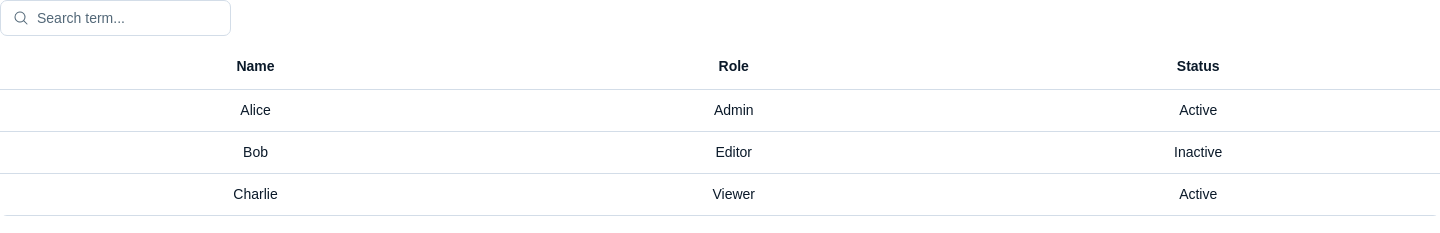
Scenario: Table › dismisses a custom editor on Escape
Step 1. Click the button "Alice" → (256, 110), box [12,98,499,123]
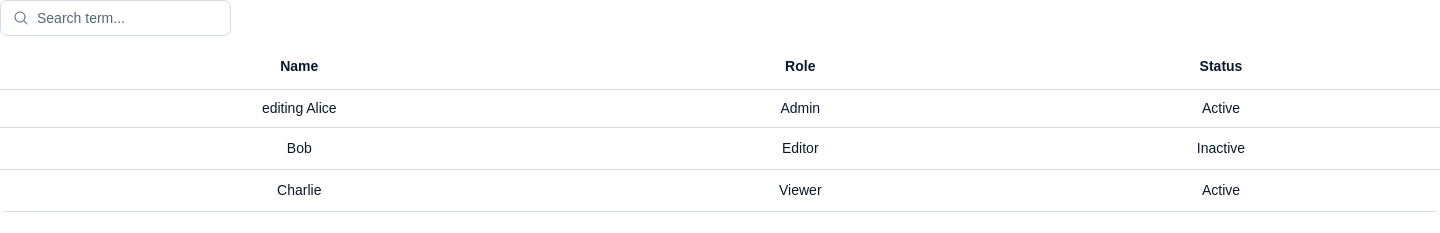
expect the text "editing Alice" is shown: met, box [262,100,337,116]
Step 2. Press Escape
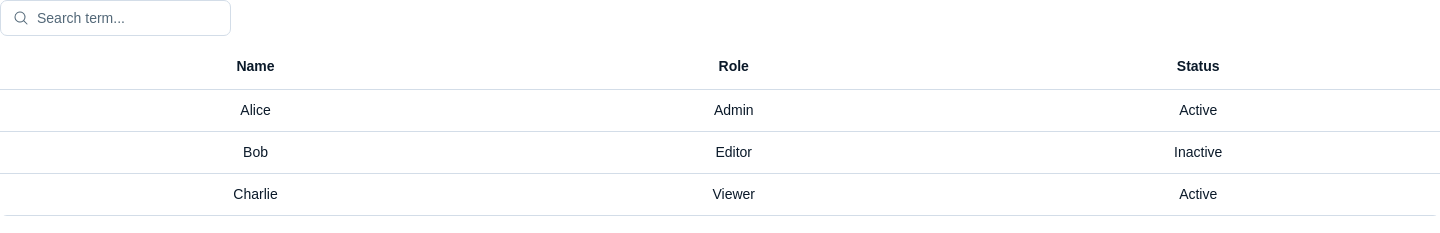
expect the text with test id "custom-editor" is gone: met
